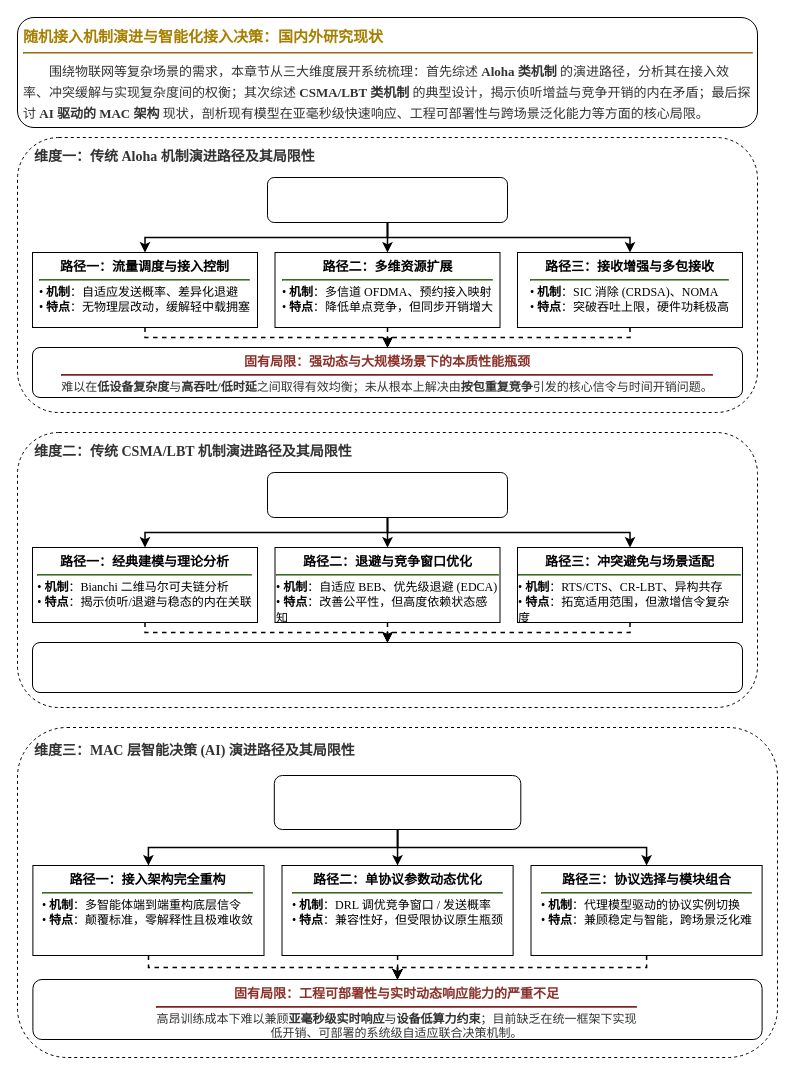
Some shapes in this 795 by 1075 pixel diagram are drawn without their labels. Here are the shapes that lost their labels. From the top down, the centre of each, then its label:
At point (387, 199): "传统 Aloha 基础机制 时隙离散并发 · 碰撞即退避重传".
At point (387, 495): "传统 CSMA/LBT 基础机制 载波侦听 (LBT) · 竞争窗口退避扩展".
At point (387, 667): "固有局限：短包高并发与高动态负载下的原生瓶颈 难以兼顾 高吞吐量 与 低实现复杂度 ；单纯优化未突破由 侦听失败 与 反复竞争 引发的内在信令开销桎梏。".
At point (397, 802): "数据驱动与智能接入架构 引入 AI / ML 技术 · 替代或增强静态协议规则".
